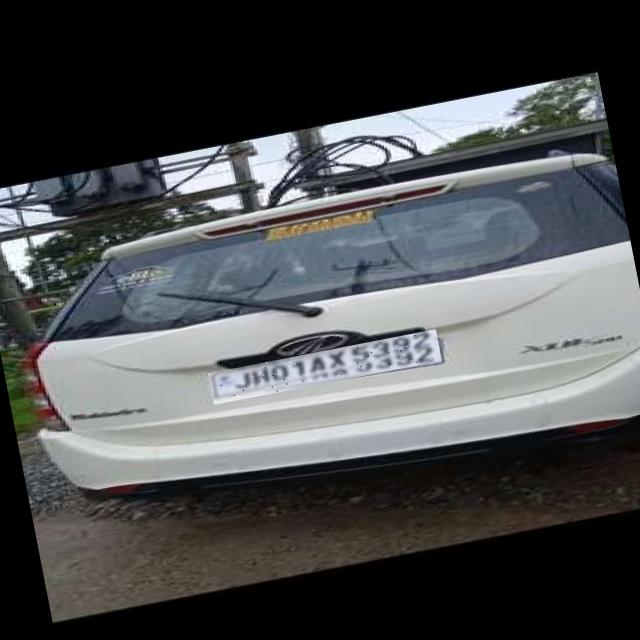Plate: (209, 330, 443, 406)
